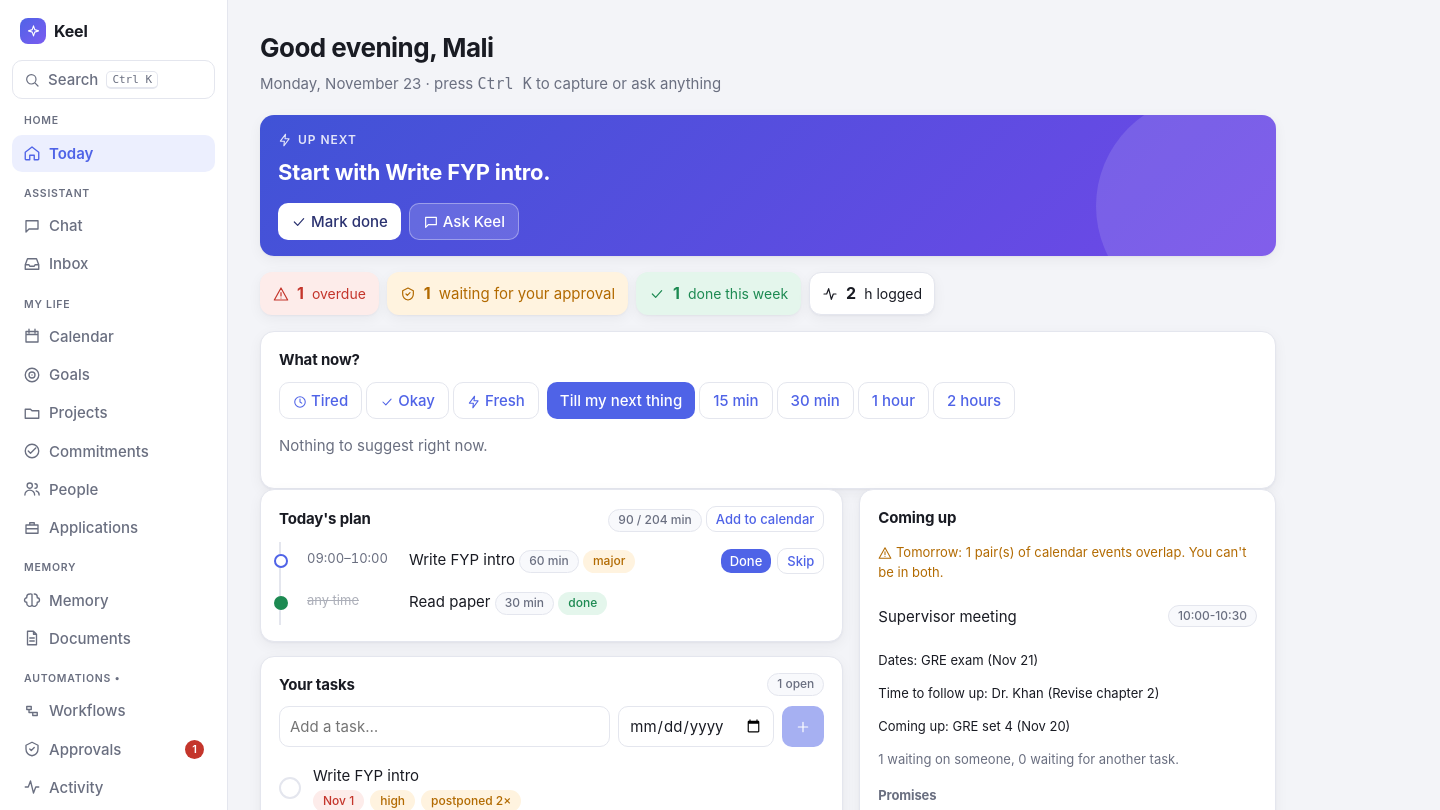
Test: dashboard smoke tests › renders the Projects tab without errors
Click the button "Projects" at [114, 413], box 12,394 -> 215,432
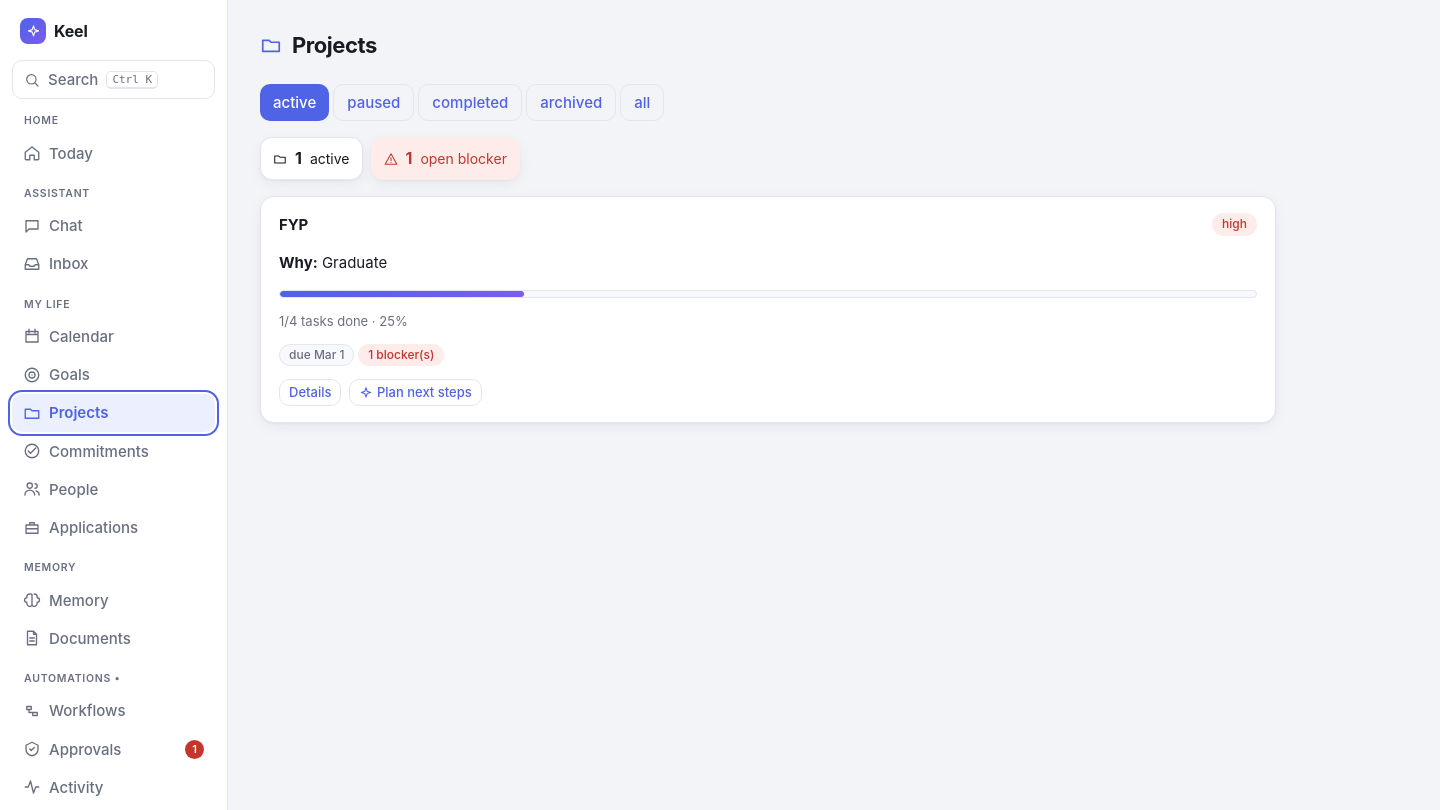
Expected: the text "Why: Graduate" is shown, 279,253 -> 387,272
